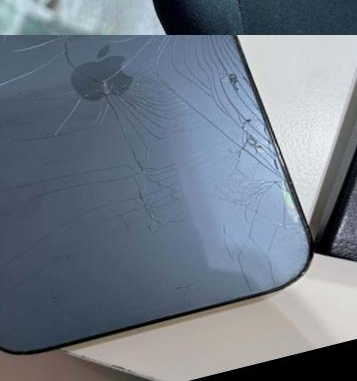physical_damage: (0, 36, 183, 158), (0, 203, 187, 309), (198, 46, 295, 226), (33, 128, 188, 230), (204, 218, 303, 289), (61, 35, 221, 56), (0, 35, 61, 68)
